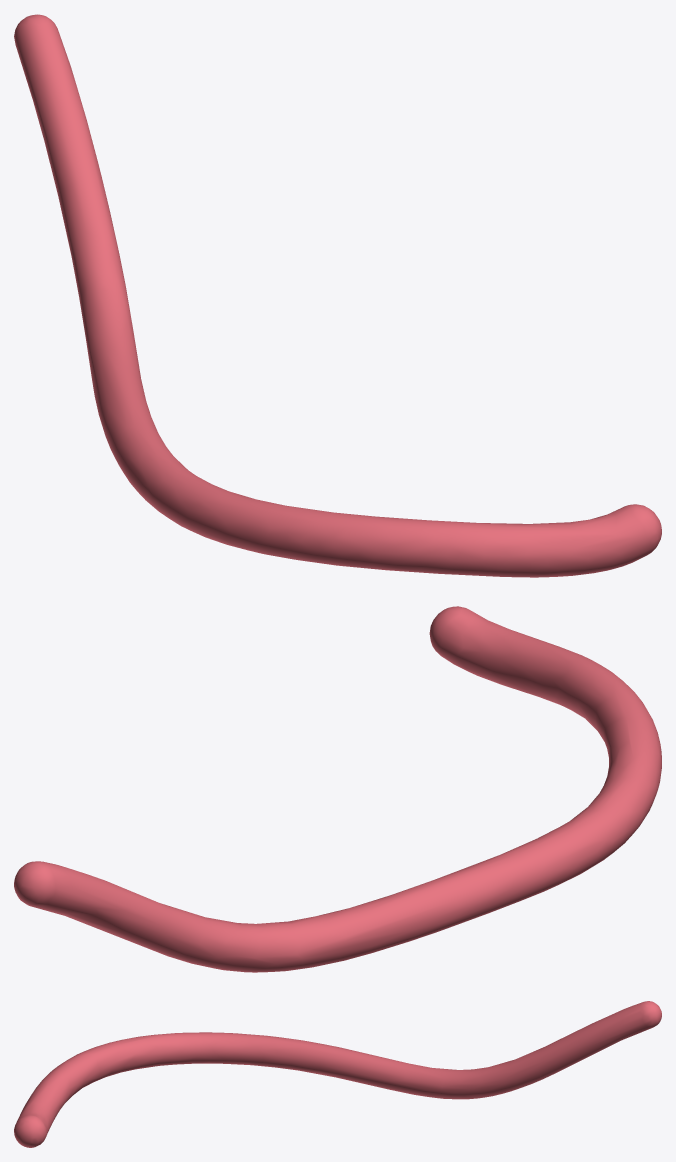
The model's file is fma50641_fj5161.glb.
The picture shows the model from 3 angles, top to bottom: view 1: azimuth 30°, elevation 25°; view 2: azimuth 150°, elevation 25°; view 3: azimuth 270°, elevation 25°; orthographic projection. The views are drawn at different scales.
Visible parts, largest first — view 1: FMA50641_FJ5161; view 2: FMA50641_FJ5161; view 3: FMA50641_FJ5161.
Part boxes in pixels (<box>): FMA50641_FJ5161: <box>14,14,661,577</box>; FMA50641_FJ5161: <box>14,606,661,972</box>; FMA50641_FJ5161: <box>14,1001,661,1147</box>.
Size of the model in its own units: 0.0137 by 0.00785 by 0.0369.
